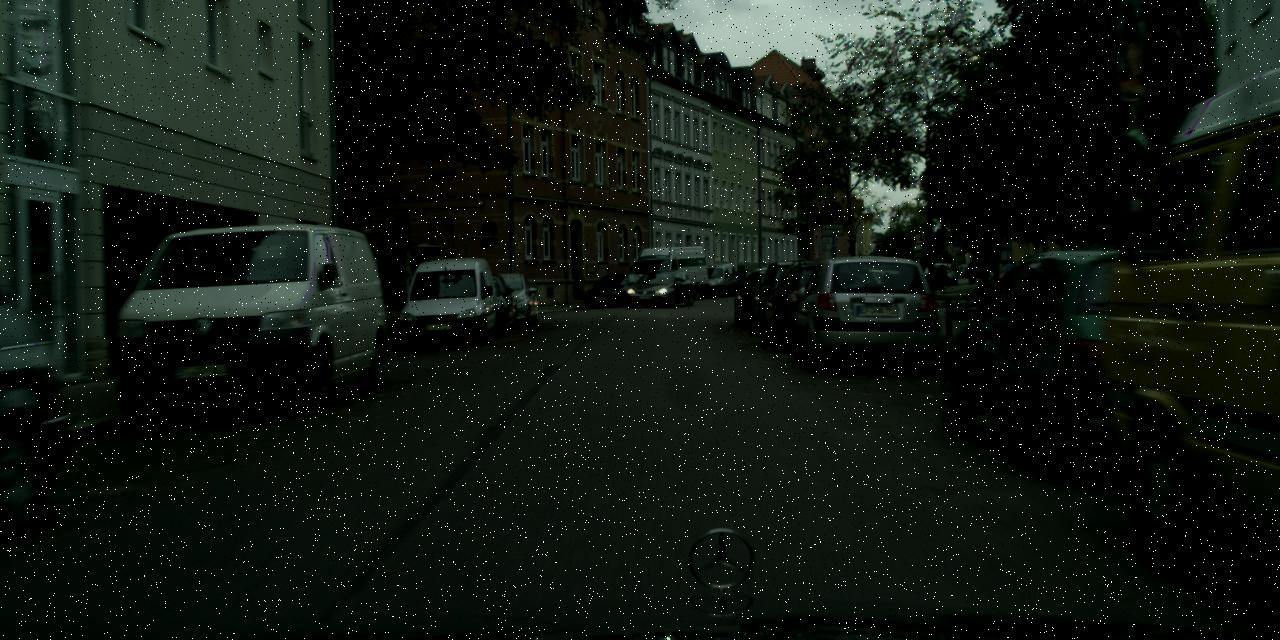ped: (978, 258, 990, 288), (937, 264, 947, 290), (950, 262, 959, 282), (967, 260, 975, 282)
